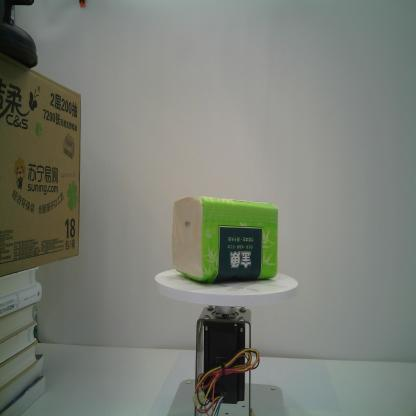Tissue: (171, 196, 278, 283)
